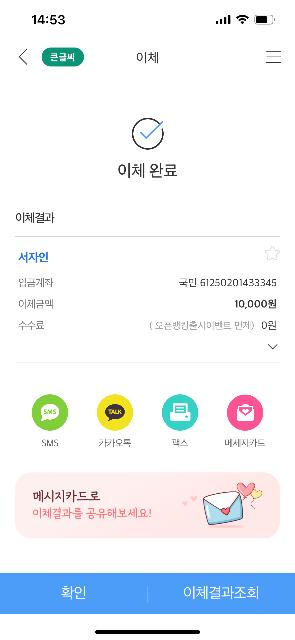Card: (15, 472, 280, 538)
Icon: (32, 395, 68, 431), (97, 395, 133, 431), (163, 394, 199, 430), (228, 395, 264, 431), (132, 118, 164, 150), (266, 246, 280, 260), (268, 51, 282, 63), (19, 49, 27, 65), (268, 344, 278, 350)
Image: (183, 482, 263, 524)
Text: (32, 489, 152, 518), (150, 320, 276, 330), (185, 586, 259, 600), (180, 278, 276, 288), (118, 164, 177, 178), (16, 213, 54, 223), (19, 278, 53, 288), (62, 586, 86, 600), (236, 300, 276, 308), (226, 439, 266, 447), (18, 252, 48, 262), (19, 300, 53, 308), (100, 439, 132, 447), (138, 52, 158, 64), (20, 320, 44, 330), (51, 53, 75, 61), (172, 439, 188, 447), (42, 440, 58, 446)
TextButton: (148, 574, 295, 614), (0, 574, 146, 614), (42, 48, 84, 66)
TextImageButton: (226, 395, 266, 447), (162, 394, 198, 448), (97, 394, 133, 448), (32, 394, 68, 446)
Toolbar: (0, 37, 295, 77)
UpperTaskBar: (0, 0, 295, 35)
